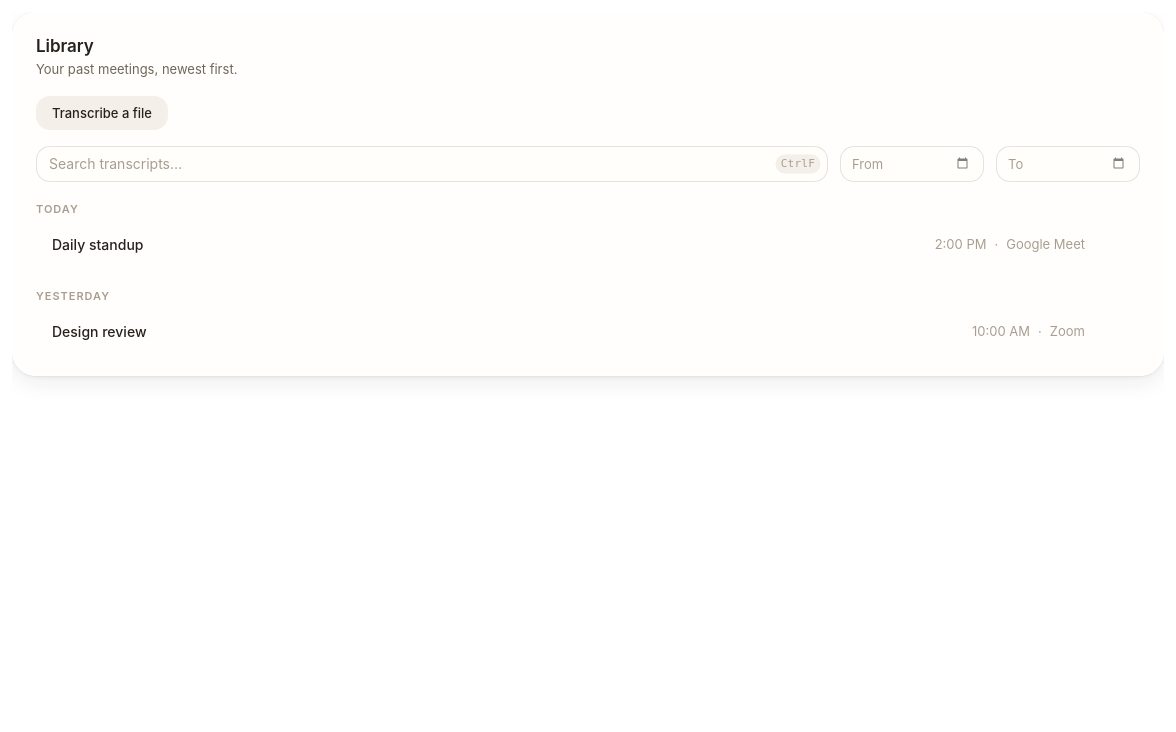
Library › opens a meeting and renders its transcript via the getTranscript bridge
The width and height of the screenshot is (1176, 732).
Click the button "Daily standup 2:00 PM · Google Meet".
click(98, 244)  # box [36,224,1101,264]
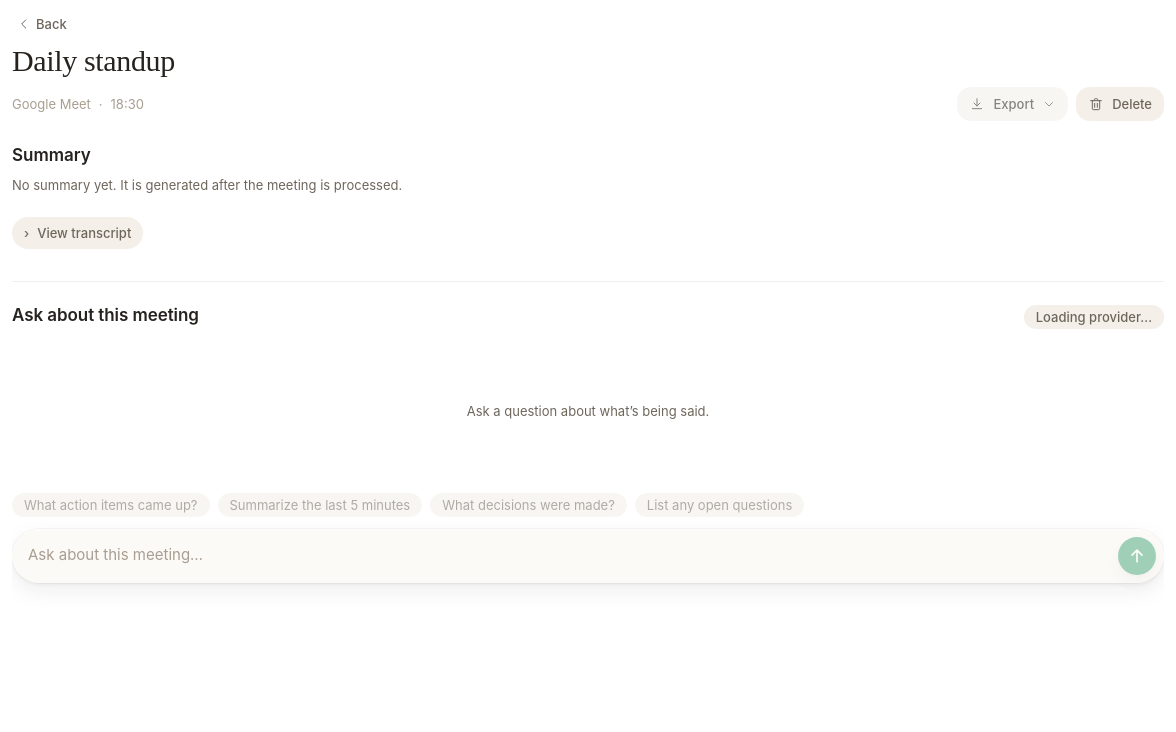
Expected: the element with test id "meeting-view" is shown
Note: Back returns to the list.
Click the button with test id "meeting-back".
click(43, 24)  # box [12,12,75,36]
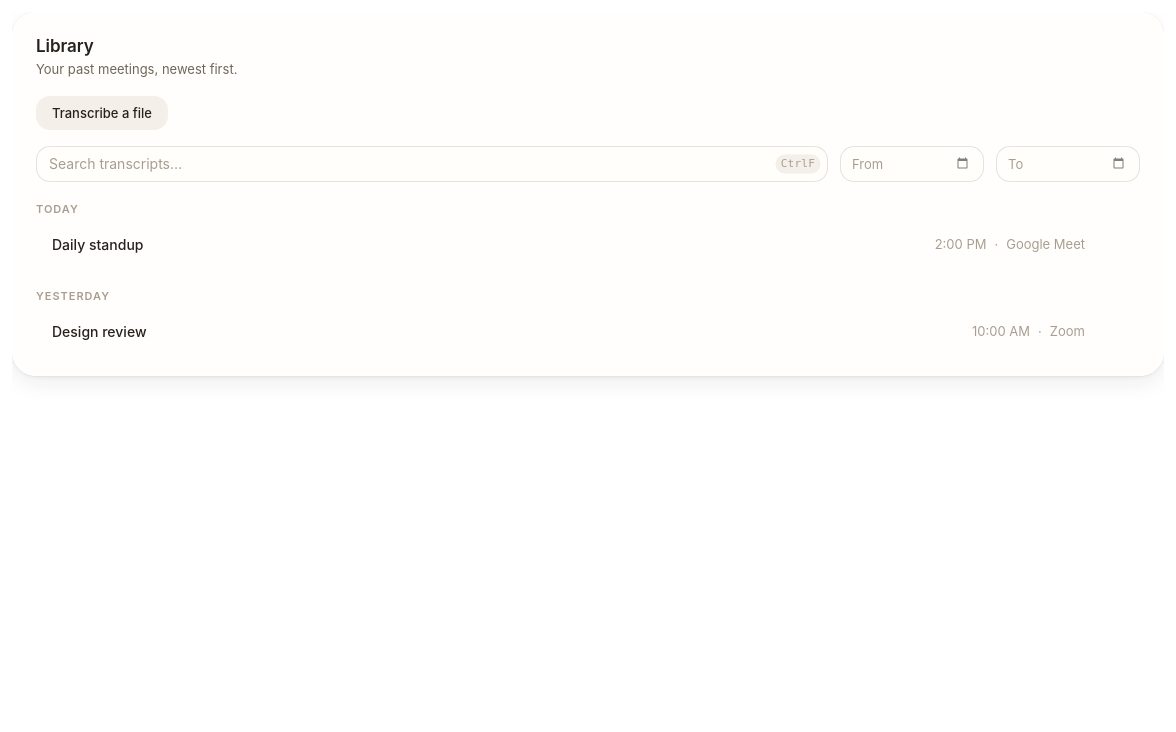
Expected: the element with test id "library-group-today" is shown, [36,202,1140,264]
